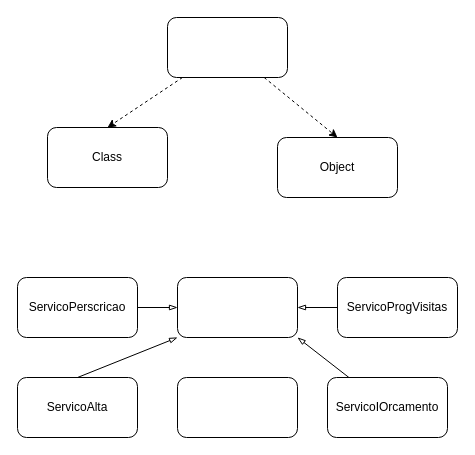
Some shapes in this 475 by 455 pixel diagram are drawn without their labels. Each missing label, with the centre of its shape:
"<<interface>> IServico" goes at point (237, 307).
"ServicoEvolucao" goes at point (237, 407).
"ServicoFactory" goes at point (227, 47).
